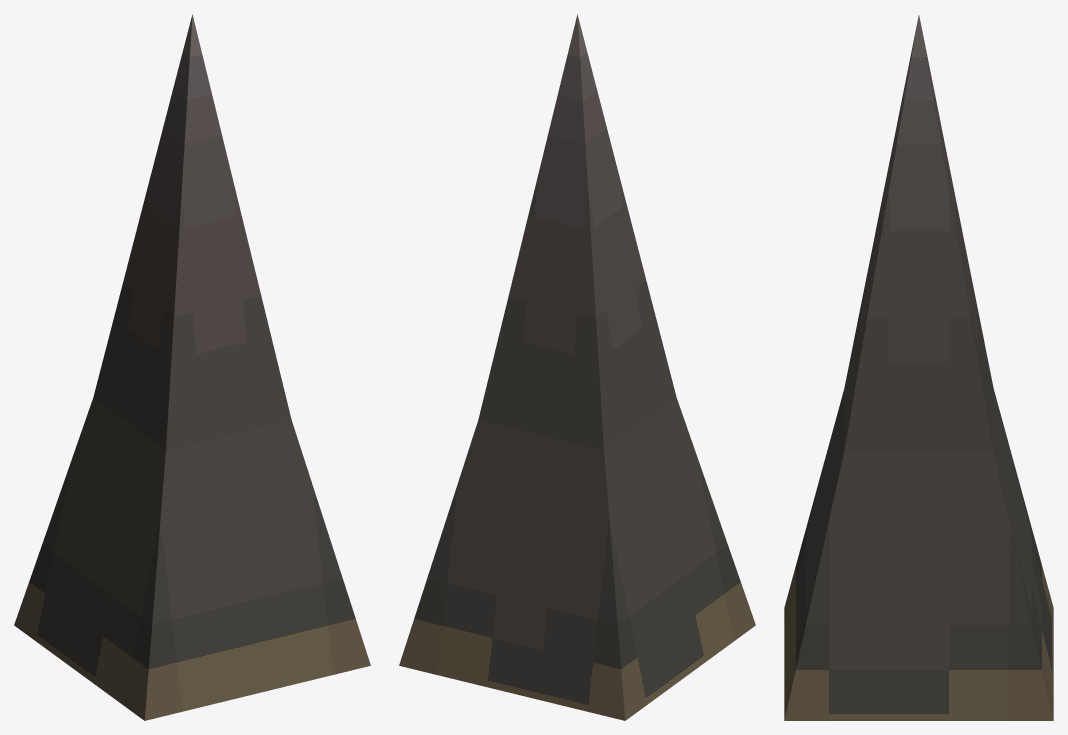
Rendered from Stalagmite_big.obj.
3 views of the same model, side by side, from view 1: azimuth 30°, elevation 25°; view 2: azimuth 150°, elevation 25°; view 3: azimuth 270°, elevation 25° (orthographic). The views are drawn at different scales.
Parts seen in each view (by area): view 1: pyramid; view 2: pyramid; view 3: pyramid.
Boxes of the visible parts, x1,y1,x2,y2 form: pyramid: [14, 14, 370, 720]; pyramid: [399, 14, 755, 720]; pyramid: [784, 15, 1053, 720].
Bounding box in the file's own units: 0.2812 × 0.75 × 0.2812.
1 material, 1 textured.
